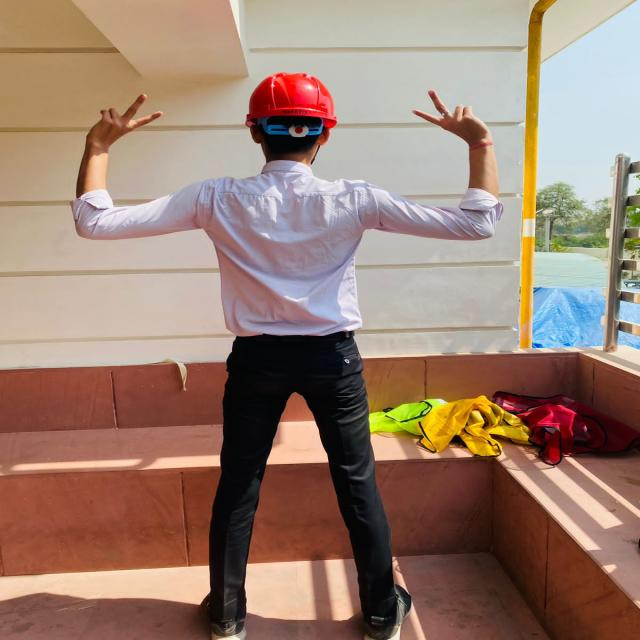no jacket: (194, 73, 394, 639)
